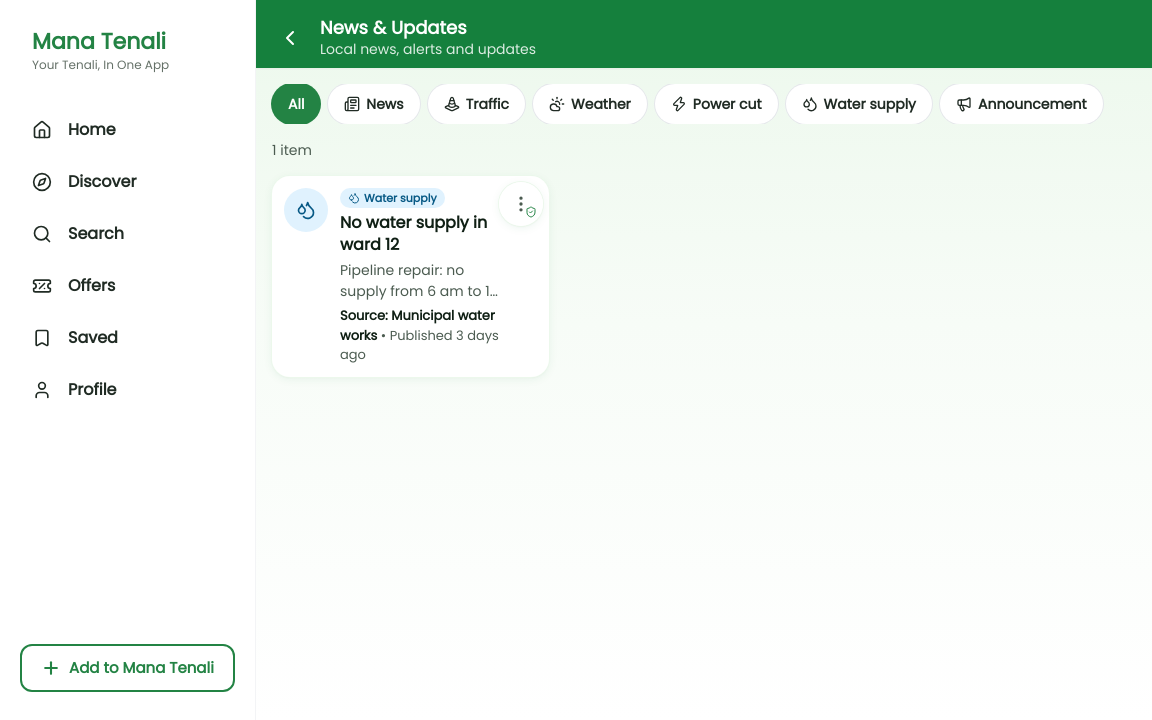
it: admin moderation controls are admin-only › admins get the menu on cards and detail pages; archive asks for confirmation and sends the reason
Click the button named "Admin moderation options for No water supply in ward 12" at x=521, y=204, box [499,182,543,226]
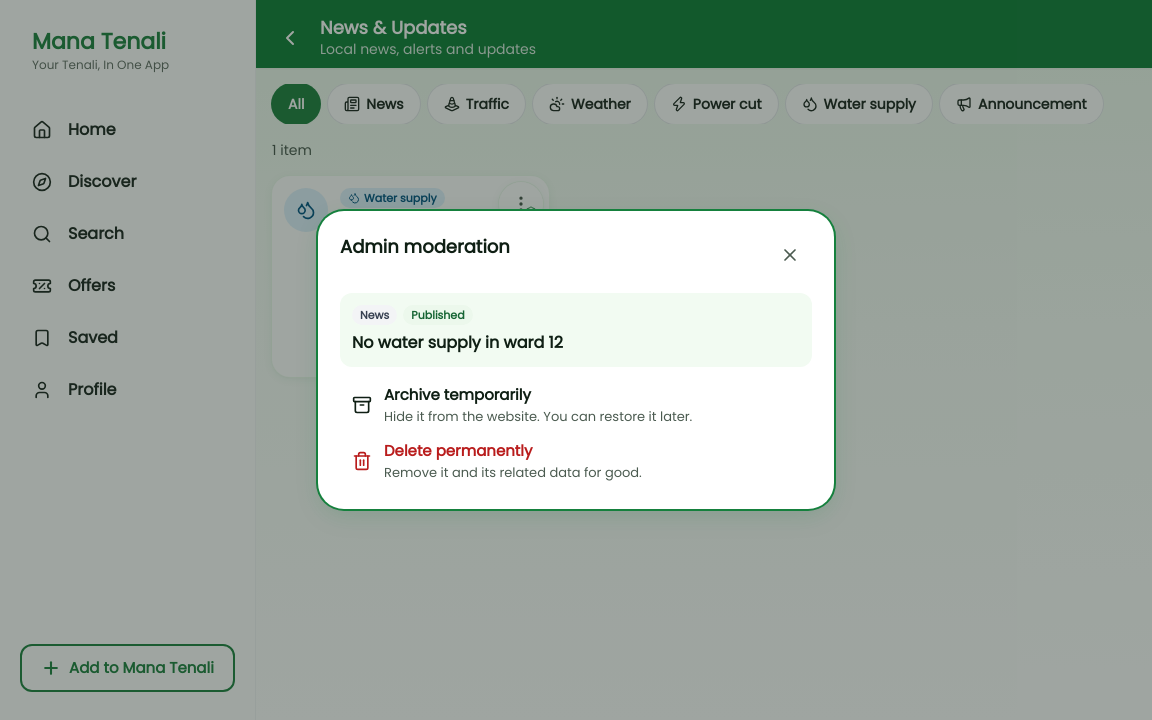
Click the button "Archive temporarily" at x=576, y=405, box [340,379,812,431]
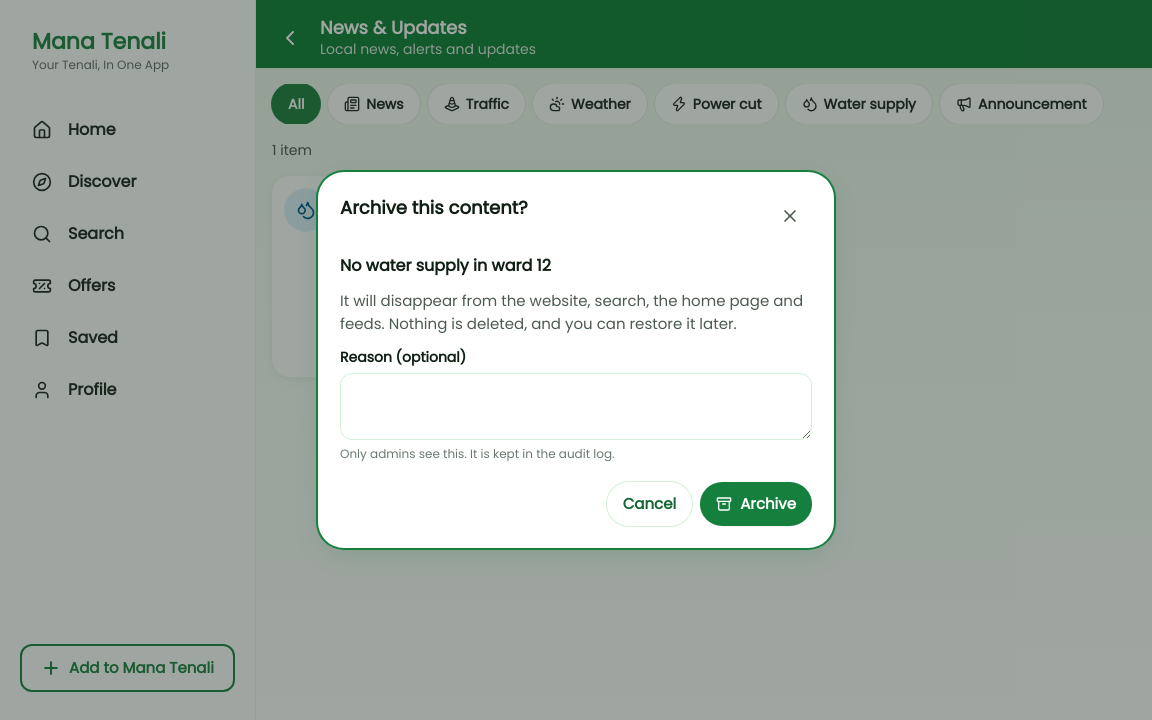
Type "Wrong ward" into the text box labelled "Reason (optional)" at x=576, y=406, box [340,373,812,440]
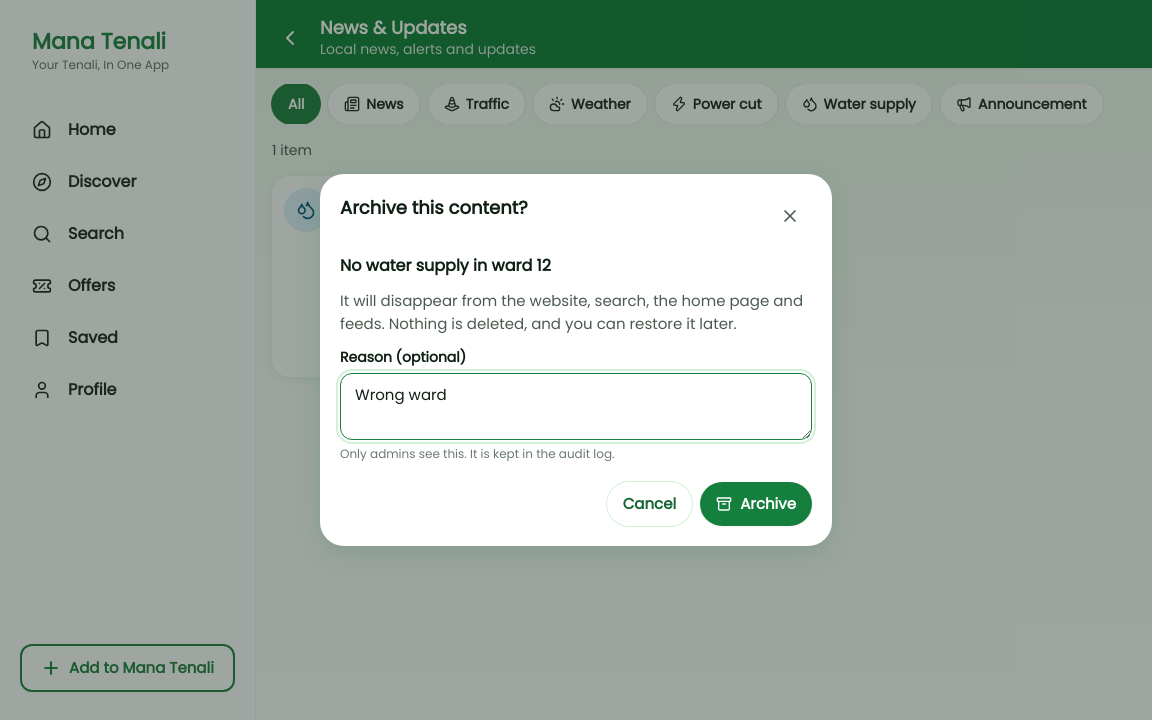
Click the button "Archive" at x=756, y=504, box [700,482,812,526]
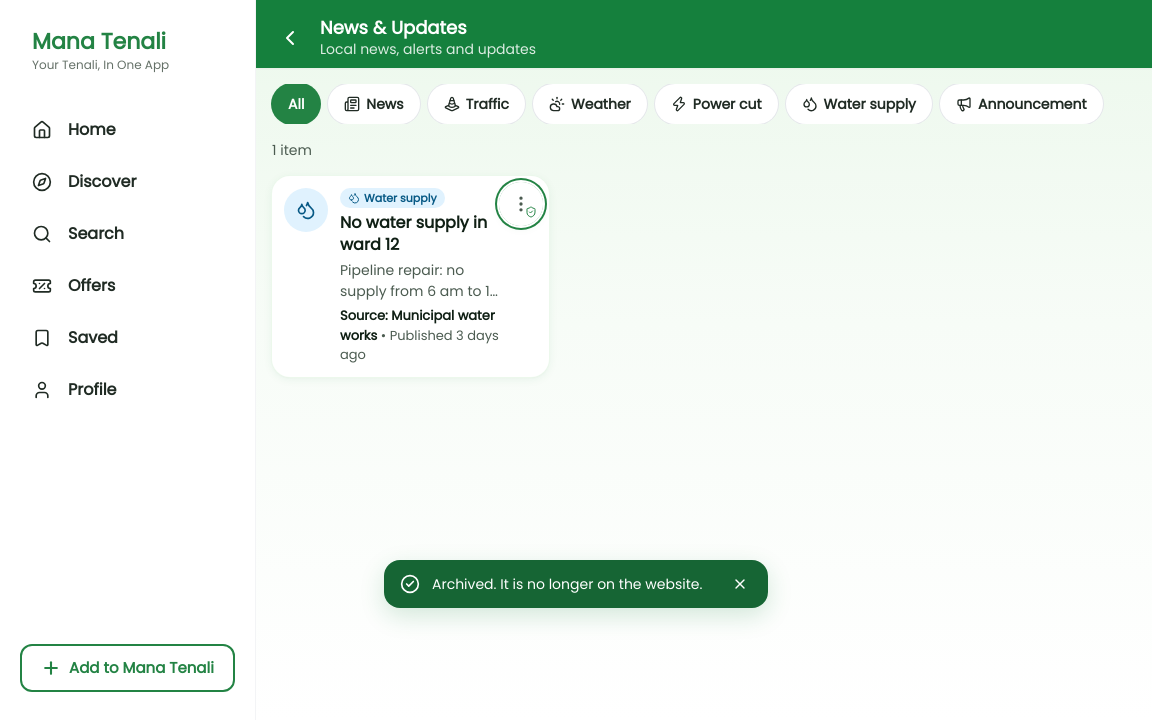
Expected: the text "Archived. It is no longer on the website." is shown, [432,574,716,594]
